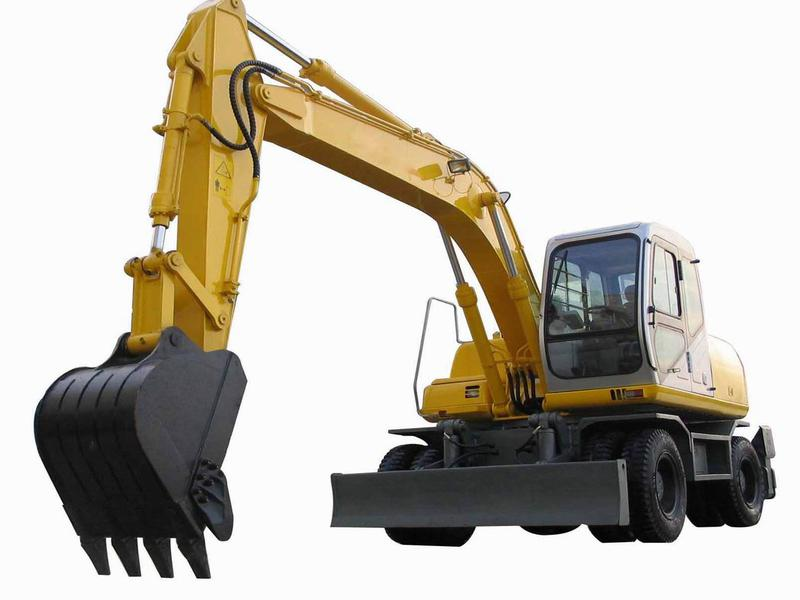shovel: (27, 1, 780, 580)
